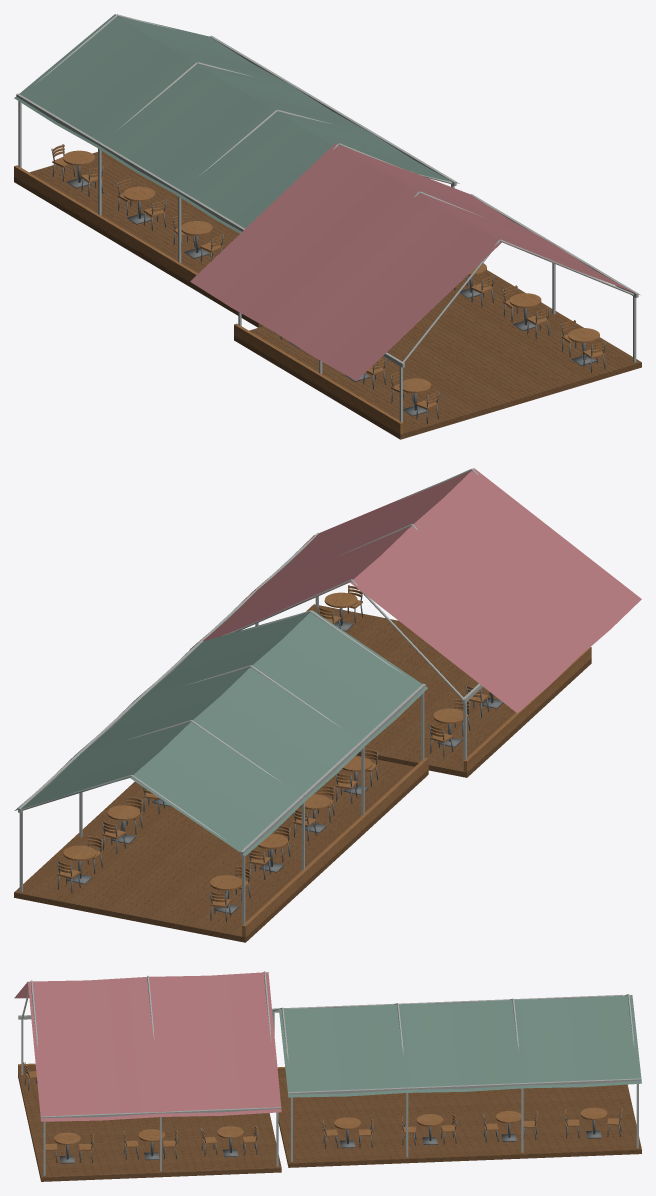
3 views of the same model, one above another, from view 1: azimuth 30°, elevation 25°; view 2: azimuth 150°, elevation 25°; view 3: azimuth 270°, elevation 25° (orthographic). The views are drawn at different scales.
Visible parts, largest first — view 1: Burgundy, Green, Deck, Teak, Canopy frame, Metal; view 2: Green, Burgundy, Deck, Teak, Canopy frame, Metal; view 3: Deck, Burgundy, Green, Canopy frame, Teak, Metal.
Part boxes in pixels (x1,y1,x2,y2): Burgundy: (190,143,639,380); Green: (14,14,459,233); Deck: (14,151,641,439); Teak: (14,145,605,434); Canopy frame: (16,14,638,422); Metal: (51,144,605,423); Green: (14,610,427,855); Burgundy: (190,468,641,713); Deck: (14,604,591,942); Teak: (57,586,591,937); Canopy frame: (18,468,482,925); Metal: (56,585,503,922); Deck: (18,1073,641,1181); Burgundy: (14,972,281,1121); Green: (272,995,641,1097); Canopy frame: (18,971,641,1175); Teak: (18,1062,621,1151); Metal: (23,1062,622,1163).
Size of the model in its own units: 9.84 by 4.88 by 19.67.
Materials: 6 (2 with a texture image).
